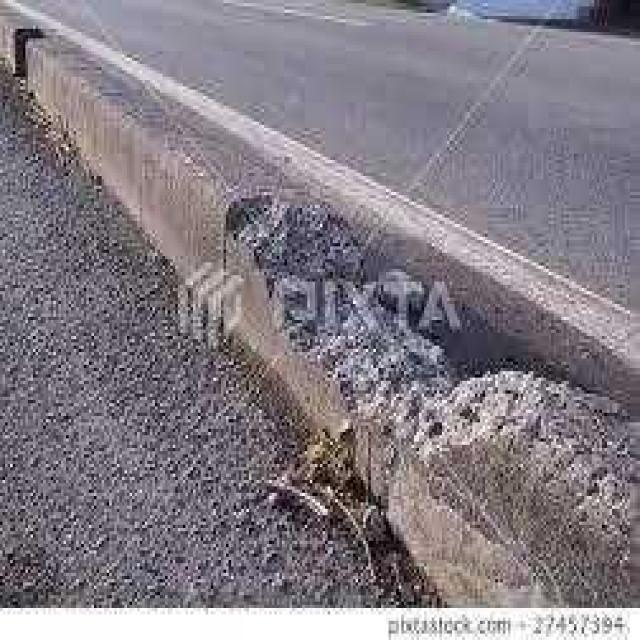curb: (330, 294, 640, 601), (132, 117, 335, 404), (2, 22, 145, 201)
